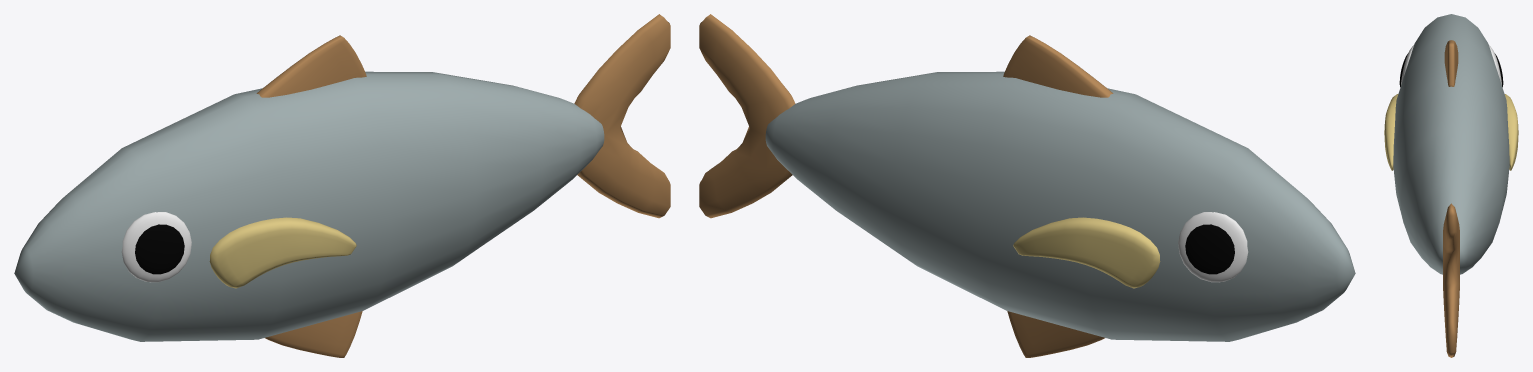
The model's file is Item_Fish.fbx.
3 views of the same model, side by side, from view 1: azimuth 30°, elevation 25°; view 2: azimuth 150°, elevation 25°; view 3: azimuth 270°, elevation 25° (orthographic). The views are drawn at different scales.
Visible parts, largest first — view 1: SM_Fishbody, SM_Fishfin, SM_FishTail, SM_Fisheye; view 2: SM_Fishbody, SM_Fishfin, SM_FishTail, SM_Fisheye; view 3: SM_Fishbody, SM_FishTail, SM_Fishfin, SM_Fisheye.
Boxes of the visible parts, x1,y1,x2,y2 form: SM_Fishbody: (14, 71, 604, 341); SM_Fishfin: (209, 35, 366, 357); SM_FishTail: (574, 14, 670, 218); SM_Fisheye: (121, 212, 191, 282); SM_Fishbody: (765, 71, 1355, 341); SM_Fishfin: (1003, 35, 1160, 357); SM_FishTail: (699, 14, 795, 218); SM_Fisheye: (1178, 212, 1248, 282); SM_Fishbody: (1393, 14, 1509, 274); SM_FishTail: (1443, 203, 1459, 357); SM_Fishfin: (1384, 40, 1518, 170); SM_Fisheye: (1399, 45, 1503, 87).
Size of the model in its own units: 2.91 by 1.37 by 0.6825.
